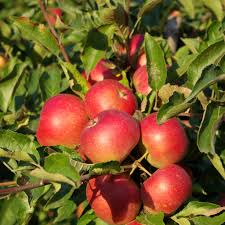Apple: (83, 112, 142, 165), (140, 112, 195, 165), (87, 171, 143, 223), (37, 91, 86, 150), (143, 166, 195, 219), (84, 79, 141, 122), (114, 27, 161, 60), (79, 55, 127, 87), (135, 65, 168, 98), (42, 5, 74, 27)
